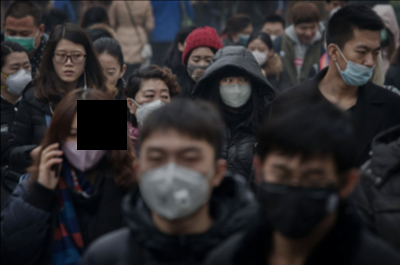mask_weared_incorrect: (334, 40, 379, 87)
with_mask: (255, 159, 338, 240), (136, 142, 214, 223), (61, 123, 106, 172), (132, 85, 171, 128), (0, 58, 32, 96), (218, 75, 250, 109), (3, 23, 39, 53), (186, 52, 214, 82), (248, 44, 266, 67)
without_mask: (50, 47, 83, 81), (292, 21, 318, 43)
